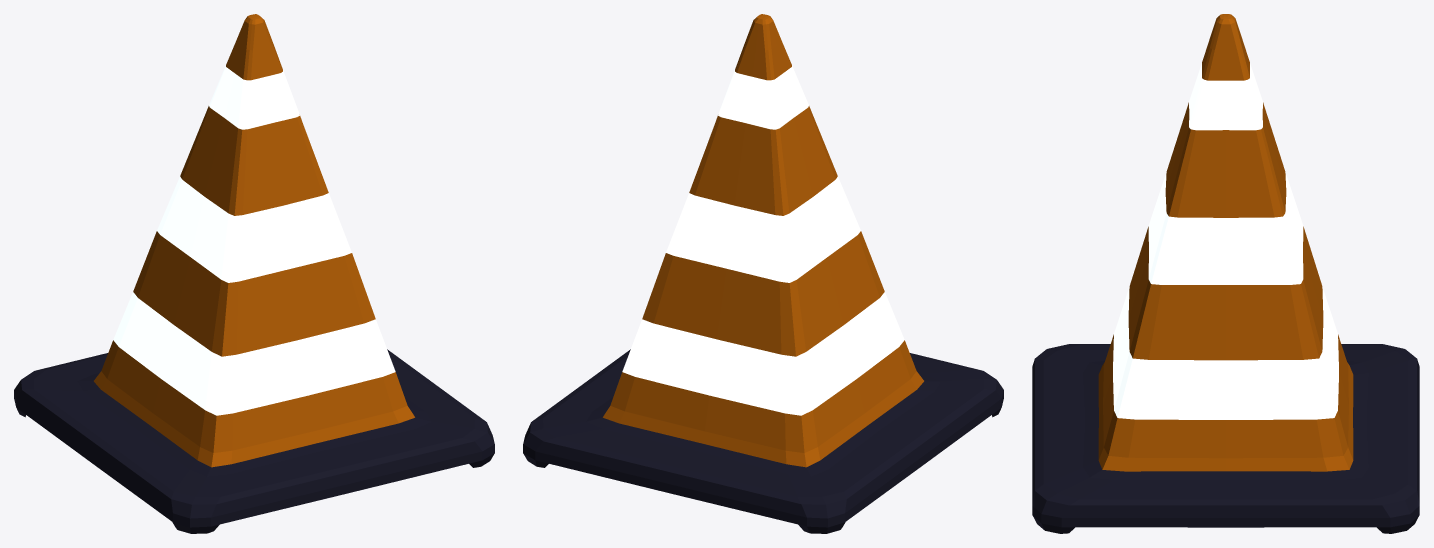
Rendered from traffic-cone.glb.
3 views of the same model, side by side, from view 1: azimuth 30°, elevation 25°; view 2: azimuth 150°, elevation 25°; view 3: azimuth 270°, elevation 25° (orthographic). The views are drawn at different scales.
Visible parts, largest first — view 1: Cube; view 2: Cube; view 3: Cube.
Part boxes in pixels (x1=…): Cube: x1=14, y1=14, x2=494, y2=533; Cube: x1=523, y1=14, x2=1003, y2=533; Cube: x1=1032, y1=14, x2=1419, y2=533.
Size of the model in its own units: 2.98 by 3.72 by 2.98.
